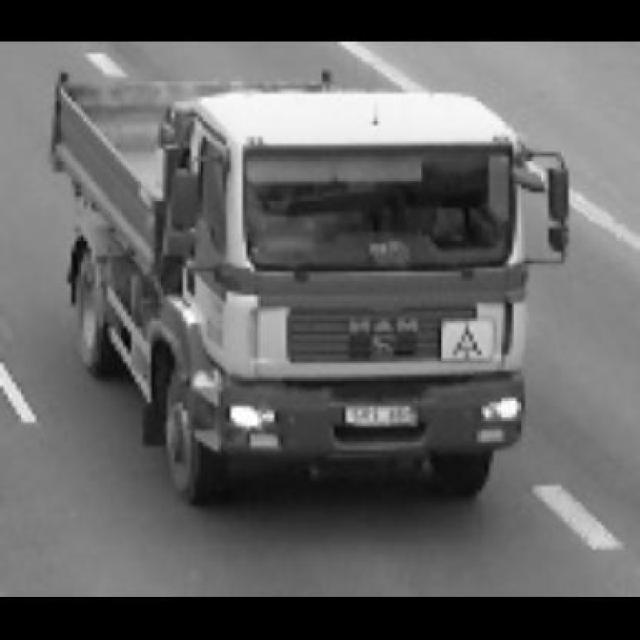truck: (44, 65, 558, 504)
